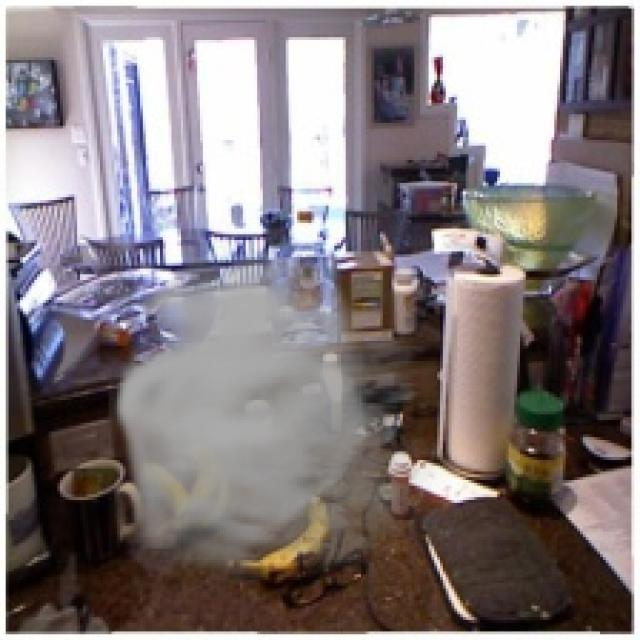smoke: (109, 249, 460, 594)
